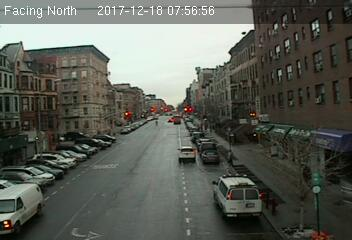car: (177, 146, 196, 163), (200, 151, 220, 164)
police: (210, 173, 264, 221)
truck: (1, 180, 41, 236)
